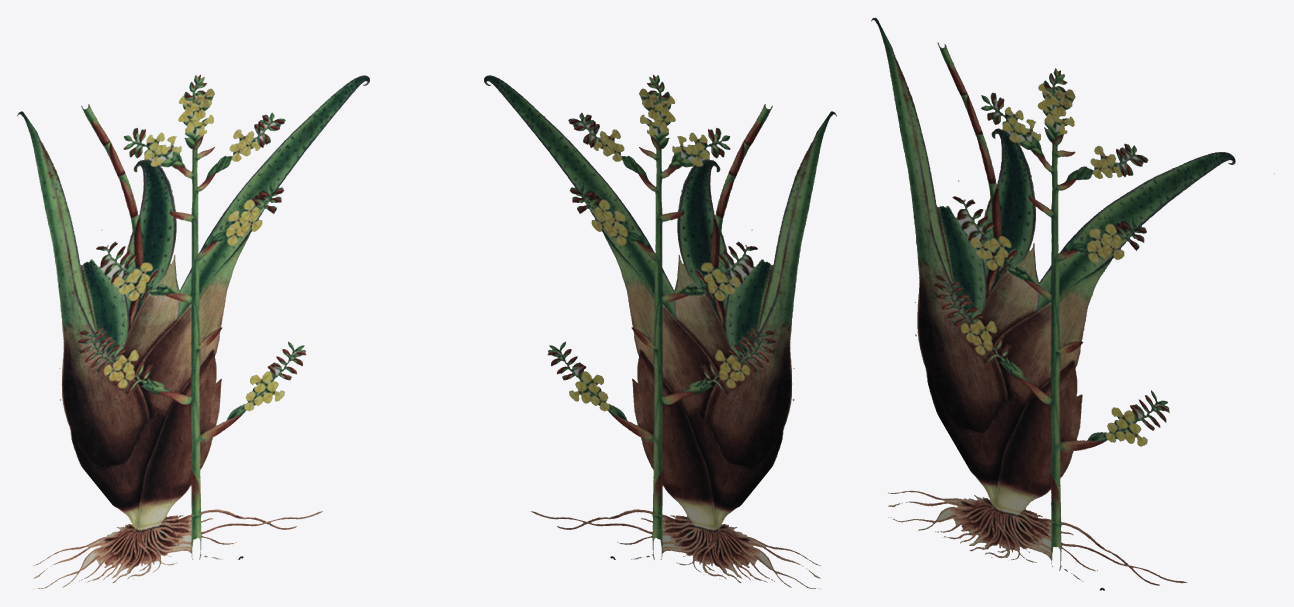
File: planta-02.fbx
The picture shows the model from 3 angles, left to right: view 1: azimuth 30°, elevation 25°; view 2: azimuth 150°, elevation 25°; view 3: azimuth 330°, elevation 25°; orthographic projection. The views are drawn at different scales.
Visible parts, largest first — view 1: Planta_2; view 2: Planta_2; view 3: Planta_2.
Part boxes in pixels (left/top/right/bottom): Planta_2: left=17, top=74, right=369, bottom=589; Planta_2: left=484, top=74, right=836, bottom=589; Planta_2: left=871, top=17, right=1274, bottom=590.
Bounding box in the file's own units: 9.42 × 11.4 × 0.
Materials: 1 (1 with a texture image).
